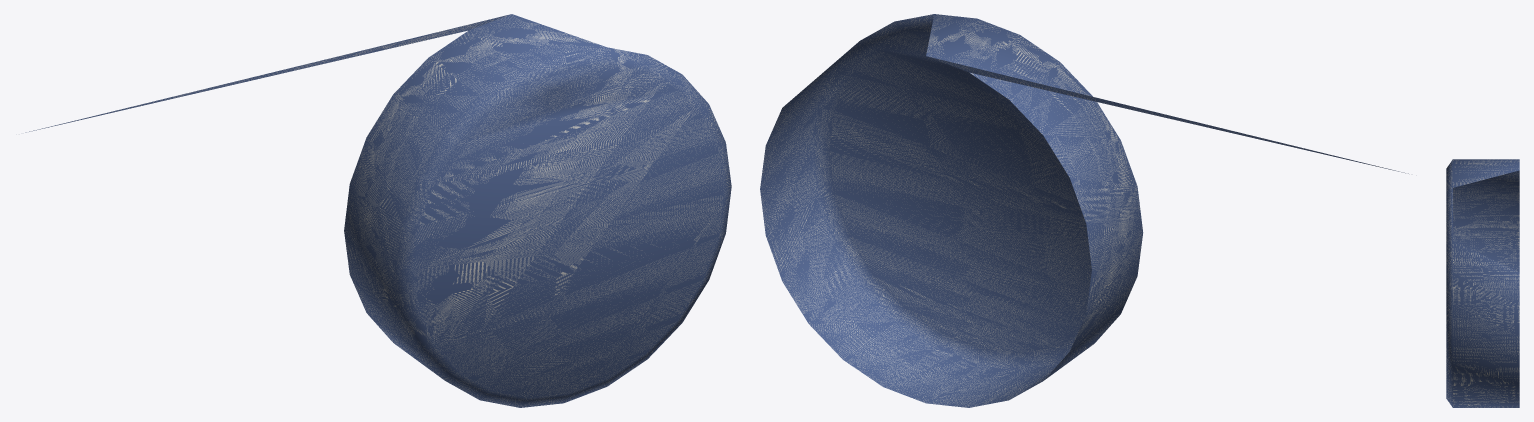
The picture shows the model from 3 angles, left to right: view 1: azimuth 30°, elevation 25°; view 2: azimuth 150°, elevation 25°; view 3: azimuth 270°, elevation 25°; orthographic projection. The views are drawn at different scales.
Size of the model in its own units: 0.1242 by 0.0626 by 0.0184.
